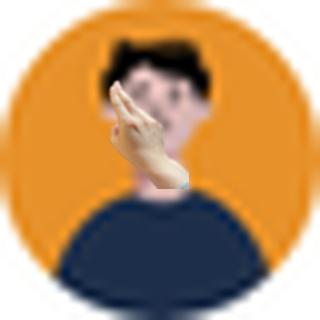DHAVE: (103, 77, 168, 167)
